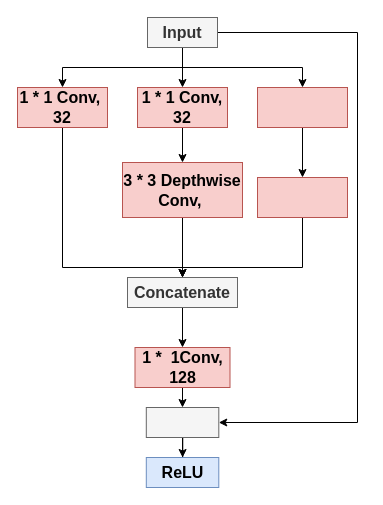
The diagram is 383 pixels wide and 505 high, and some of its shapes have lost their labels. The box of each missing label's shape, as (x1, y1, x2, y2) in pixels:
3 * 3 Conv, 32: (256, 86, 348, 128)
3 * 3 Conv, 64: (256, 176, 348, 218)
Add: (145, 406, 219, 438)
